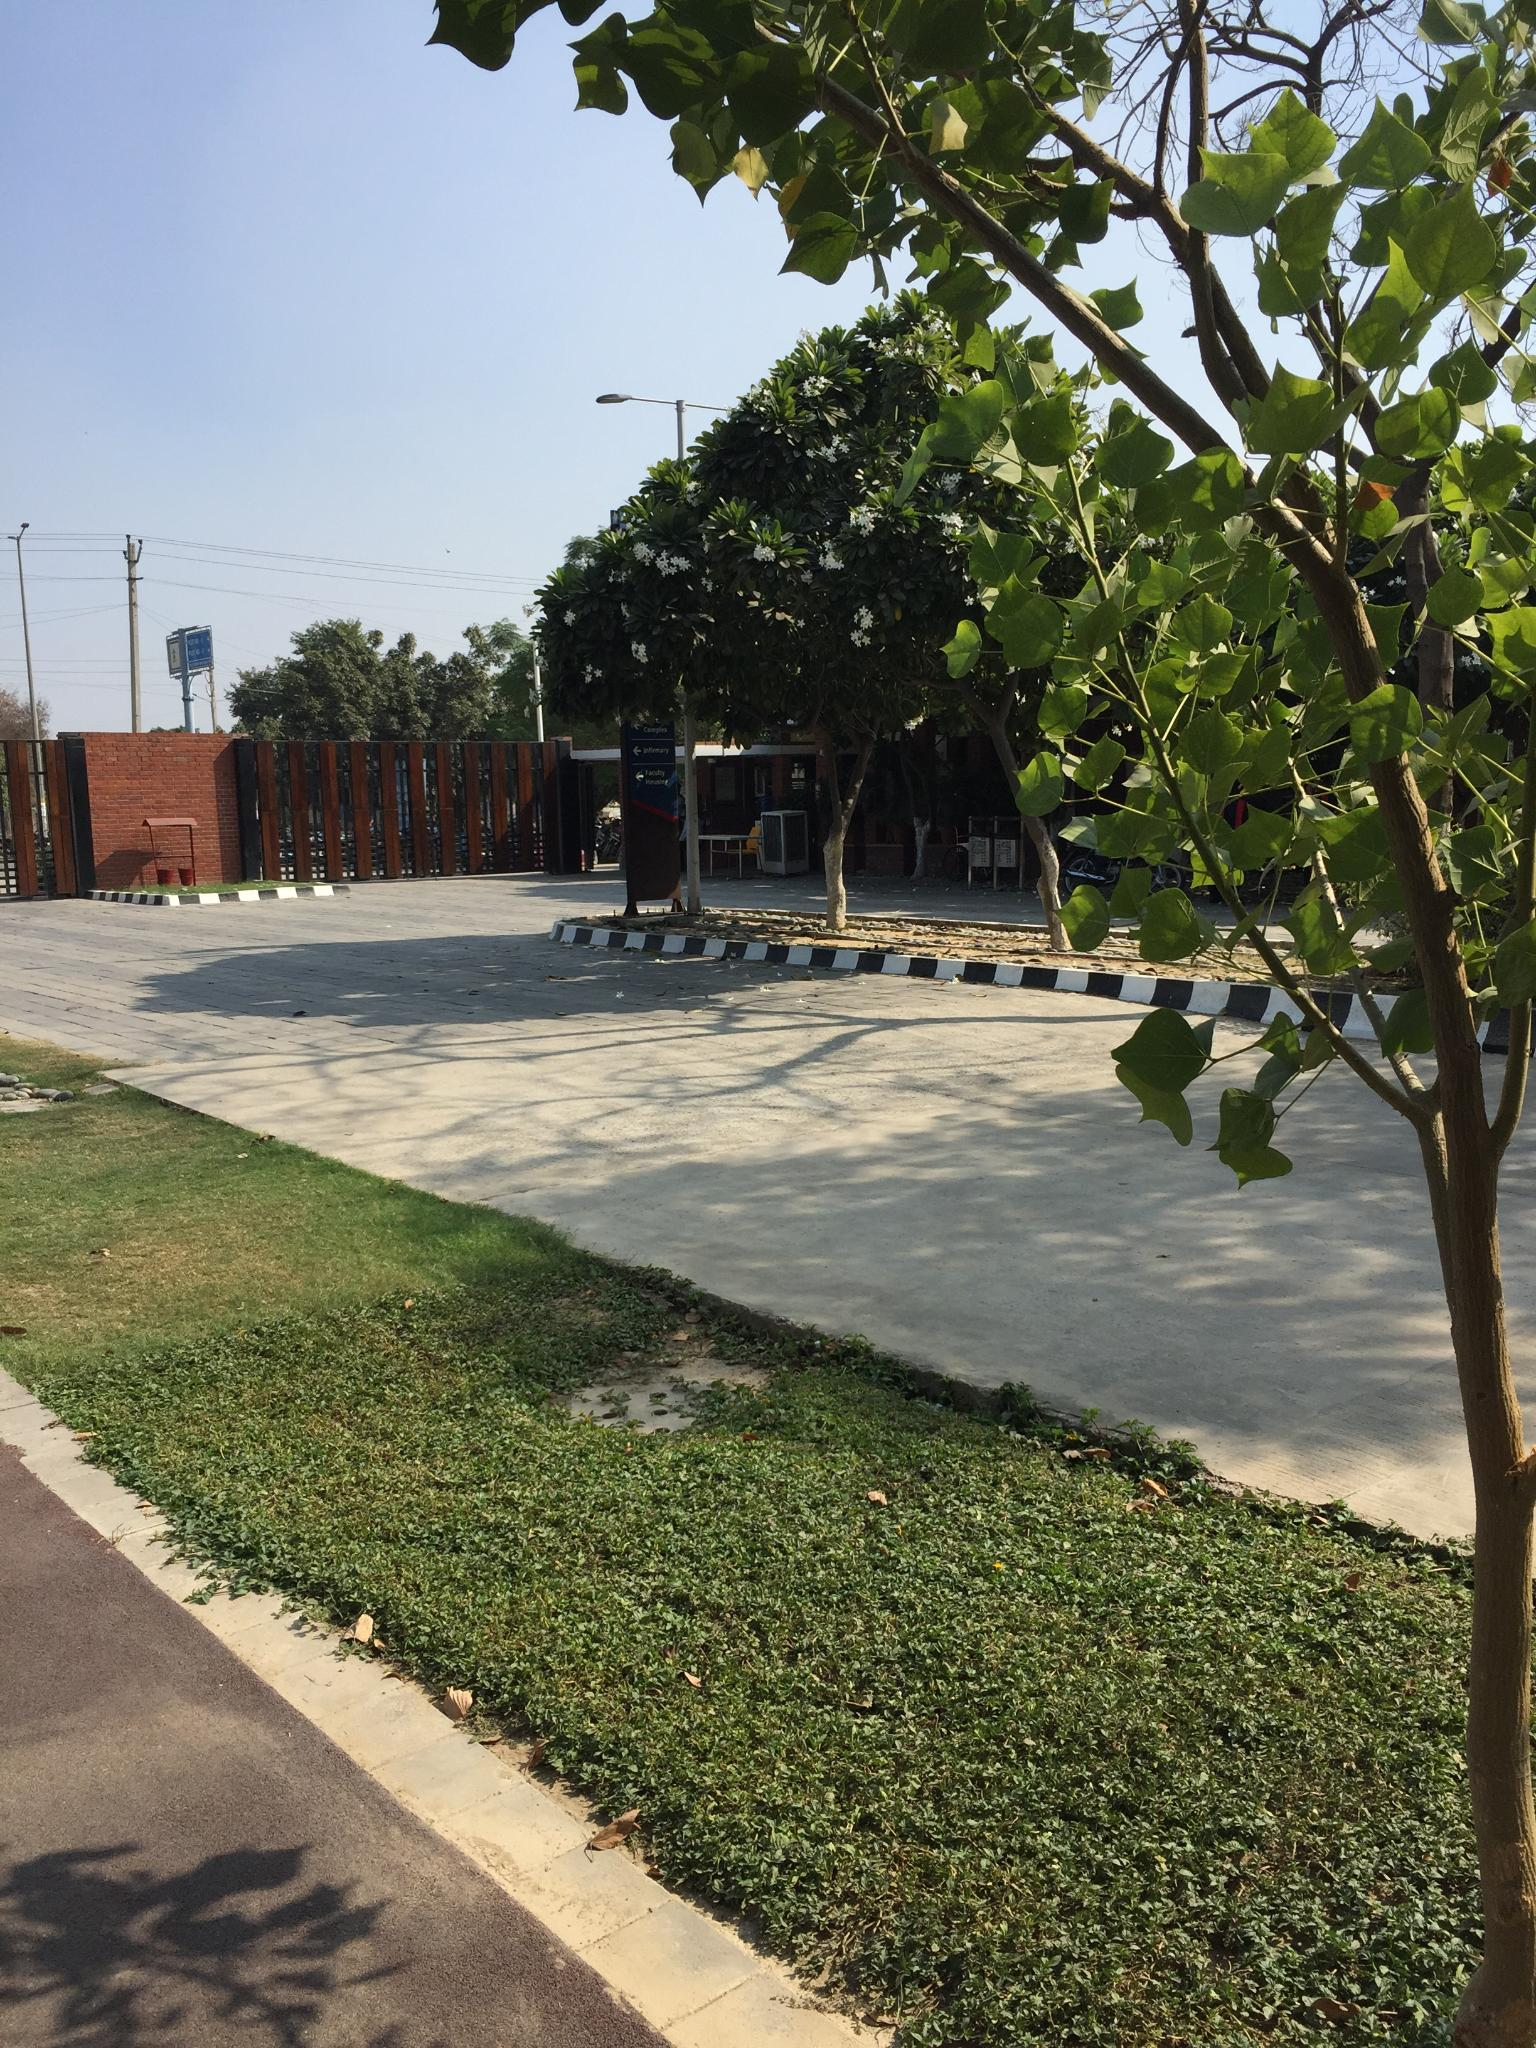chair: (723, 821, 768, 877)
